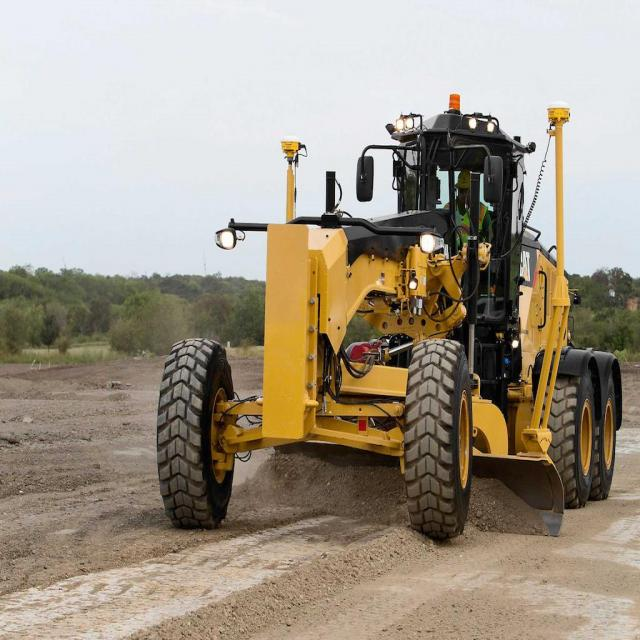Grader: (143, 97, 631, 549)
